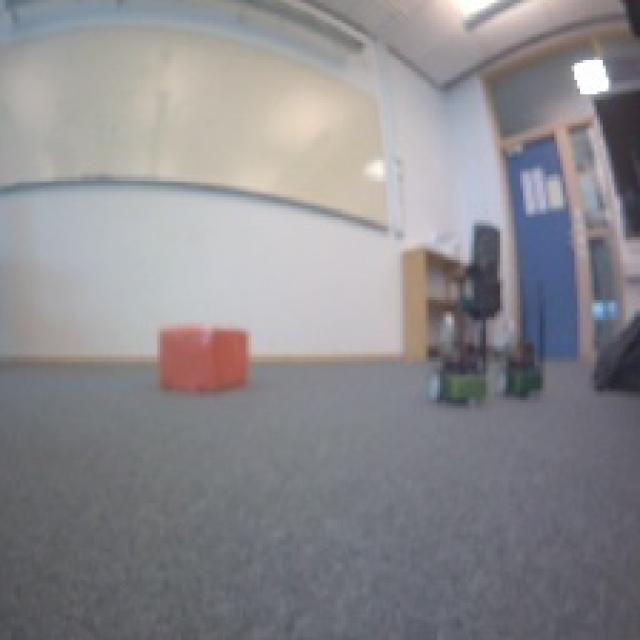robot: (424, 340, 493, 411), (497, 340, 547, 398)
target: (154, 320, 249, 391)
